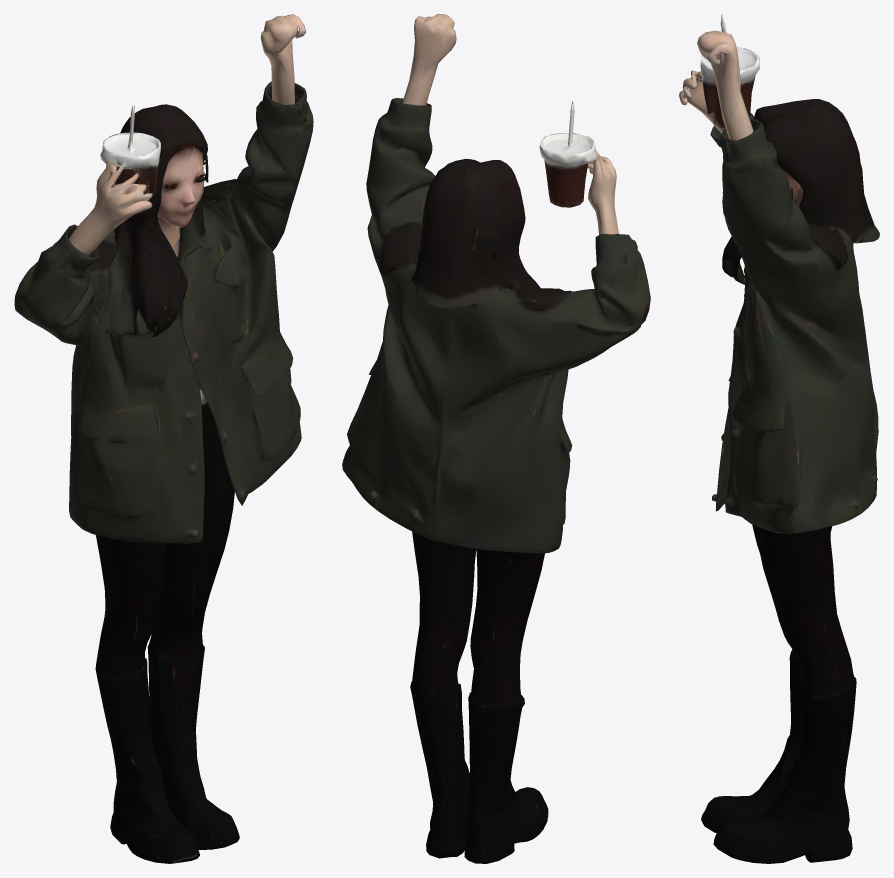
Rendered from fan-w-cup-s1.glb.
3 renders of one model, left to right at view 1: azimuth 30°, elevation 25°; view 2: azimuth 150°, elevation 25°; view 3: azimuth 270°, elevation 25°, orthographic. The views are drawn at different scales.
Parts seen in each view (by area): view 1: geometry_0; view 2: geometry_0; view 3: geometry_0.
Boxes of the visible parts, box(x1,y1,x2,y2) form: geometry_0: box(14, 14, 313, 863); geometry_0: box(342, 14, 650, 863); geometry_0: box(679, 14, 879, 863).
Size of the model in its own units: 0.3801 by 1 by 0.2141.
1 material, 1 textured.
